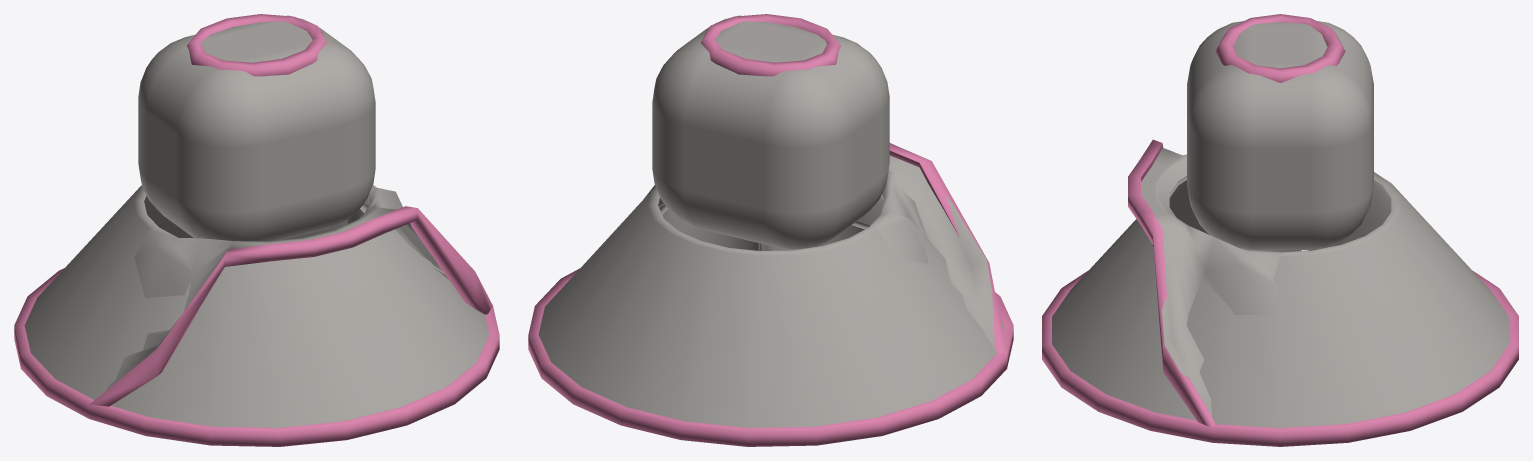
Rendered from astro_dress.glb.
3 views of the same model, side by side, from view 1: azimuth 30°, elevation 25°; view 2: azimuth 150°, elevation 25°; view 3: azimuth 270°, elevation 25° (orthographic).
Parts seen in each view (by area): view 1: astro_dress_Body, astro_dress_Body_sit; view 2: astro_dress_Body, astro_dress_Body_sit, astro_dress_LegR_sit, astro_dress_LegL_sit; view 3: astro_dress_Body, astro_dress_Body_sit.
Part boxes in pixels (x1,y1,x2,y2): astro_dress_Body: (14,14,499,446); astro_dress_Body_sit: (90,43,492,406); astro_dress_Body: (528,14,1013,446); astro_dress_Body_sit: (645,48,1006,354); astro_dress_LegR_sit: (659,203,762,250); astro_dress_LegL_sit: (758,221,869,250); astro_dress_Body: (1042,14,1518,446); astro_dress_Body_sit: (1128,70,1388,427).
Size of the model in its own units: 0.748 by 0.5289 by 0.7404.
